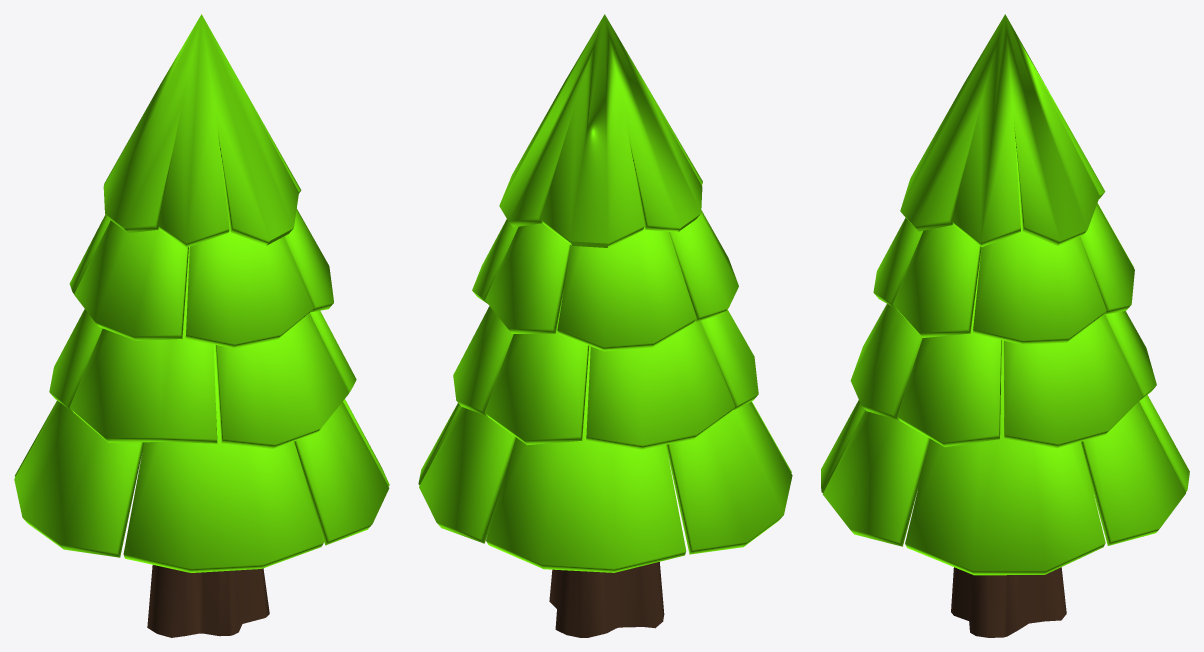
Rendered from Toy21.fbx.
3 renders of one model, left to right at view 1: azimuth 30°, elevation 25°; view 2: azimuth 150°, elevation 25°; view 3: azimuth 270°, elevation 25°, orthographic.
Parts seen in each view (by area): view 1: Toy21; view 2: Toy21; view 3: Toy21.
Part boxes in pixels (bbox=[...]): Toy21: bbox=[14, 14, 389, 637]; Toy21: bbox=[418, 14, 792, 637]; Toy21: bbox=[821, 14, 1189, 637].
Size of the model in its own units: 0.1218 by 0.2152 by 0.1207.
